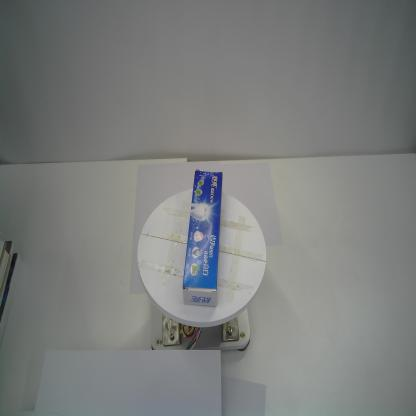Personal Hygiene: (182, 170, 223, 306)
